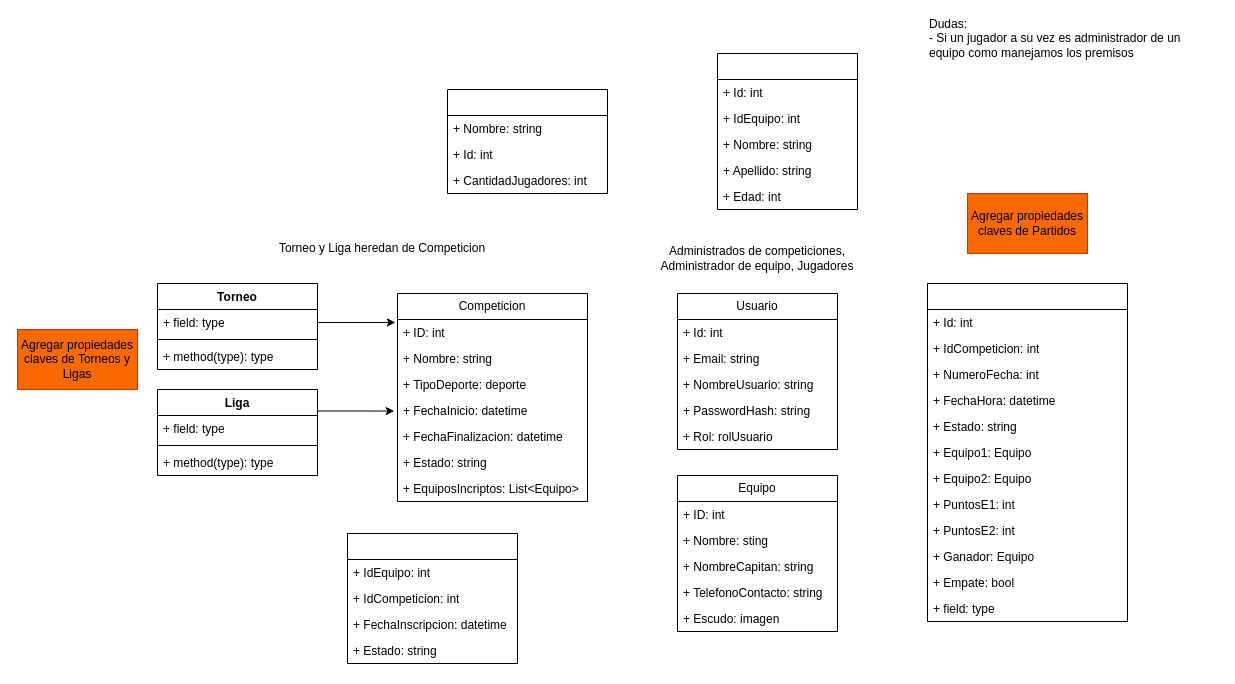
Image size: 1235x684. Some labels were removed from this diagram. The box of each missing label's shape, as (x1, y1, x2, y2) in pixels:
Deporte: (446, 88, 608, 194)
Incripción: (346, 532, 518, 664)
Jugadores: (716, 52, 858, 210)
Partido: (926, 282, 1128, 622)
